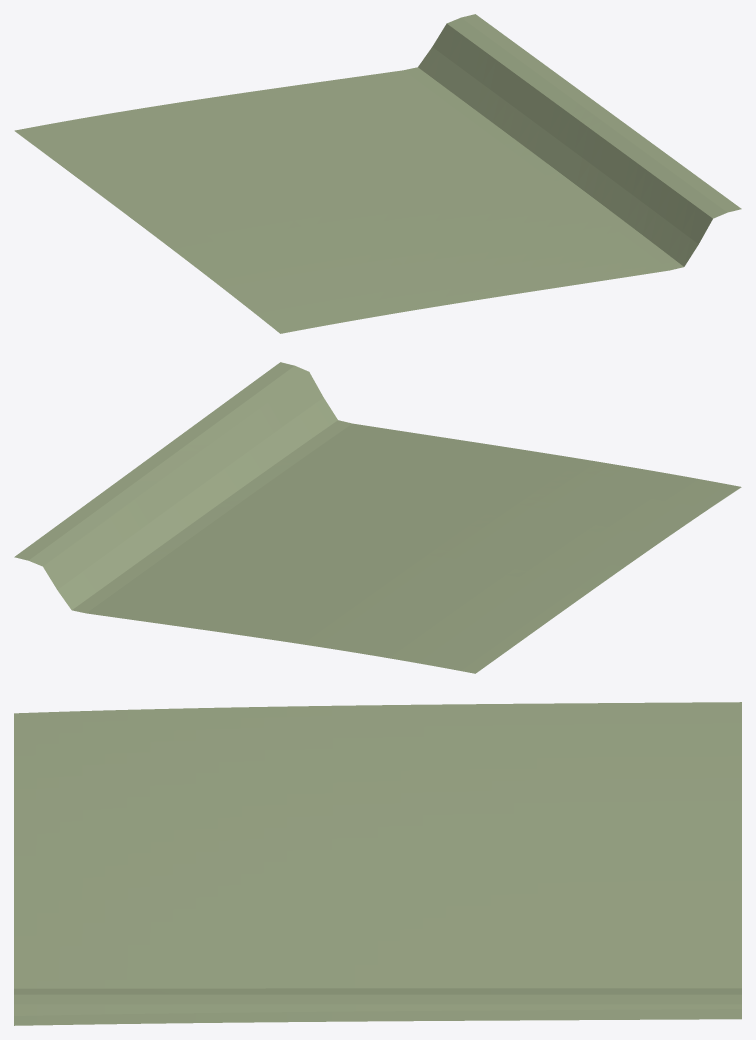
Rendered from valley-7-5.glb.
3 views of the same model, one above another, from view 1: azimuth 30°, elevation 25°; view 2: azimuth 150°, elevation 25°; view 3: azimuth 270°, elevation 25° (orthographic). The views are drawn at different scales.
Parts seen in each view (by area): view 1: valley-7-5; view 2: valley-7-5; view 3: valley-7-5.
Boxes of the visible parts, x1,y1,x2,y2 form: valley-7-5: [14, 14, 741, 333]; valley-7-5: [14, 362, 741, 673]; valley-7-5: [14, 702, 741, 1025].
Size of the model in its own units: 256 by 23.28 by 256.
